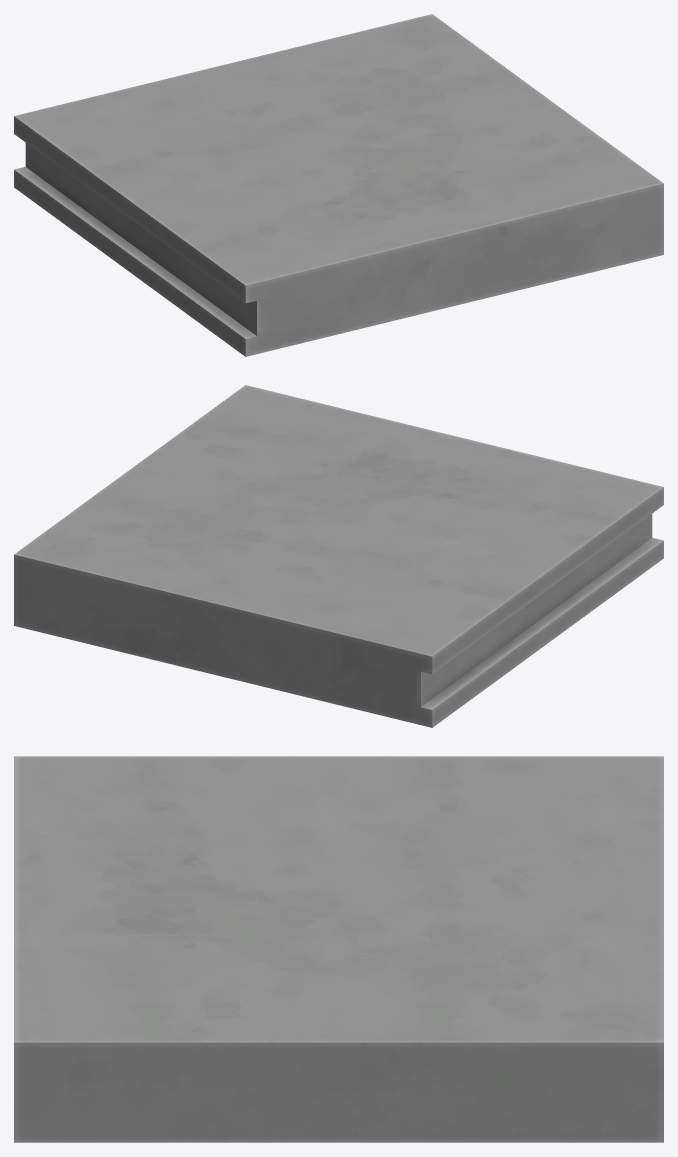
Rendered from Pfb_Stairs_Soda.fbx.
3 renders of one model, top to bottom at view 1: azimuth 30°, elevation 25°; view 2: azimuth 150°, elevation 25°; view 3: azimuth 270°, elevation 25°, orthographic. The views are drawn at different scales.
Parts seen in each view (by area): view 1: Mat_Stairs_Soda; view 2: Mat_Stairs_Soda; view 3: Mat_Stairs_Soda.
Part boxes in pixels (box(x1,y1,x2,y2)): Mat_Stairs_Soda: box(14, 14, 663, 356); Mat_Stairs_Soda: box(14, 385, 663, 727); Mat_Stairs_Soda: box(14, 756, 663, 1142).
Bounding box in the file's own units: 2.27 × 0.3696 × 2.18.
1 material, 1 textured.
